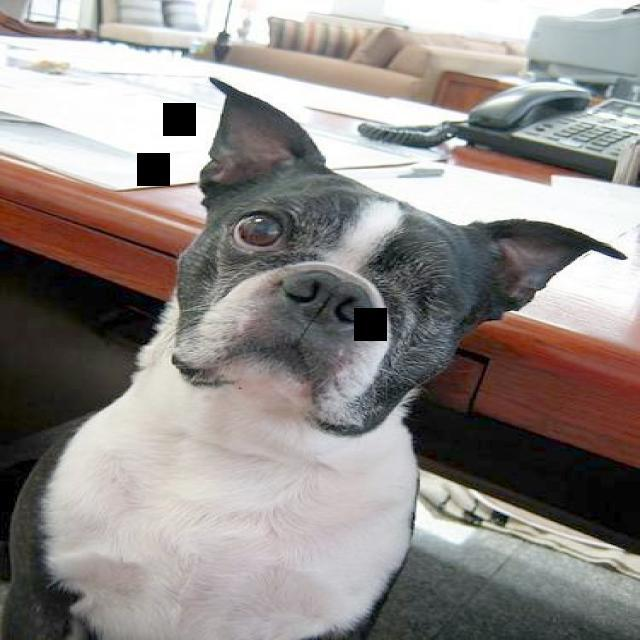adult_dog: (6, 81, 630, 634)
